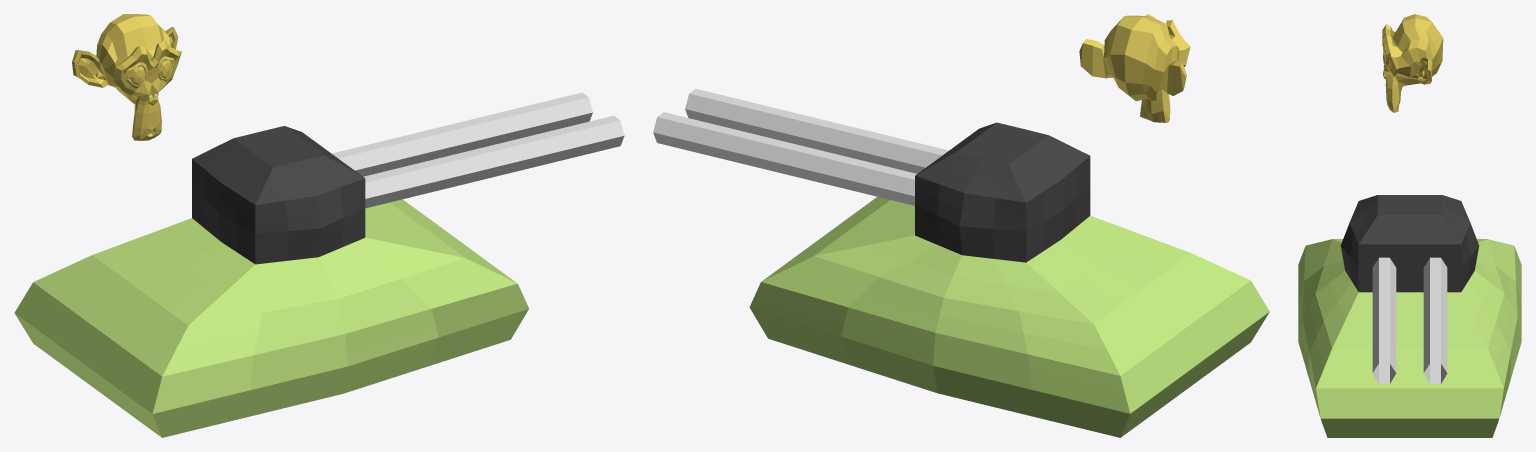
Rendered from Tank.gltf.
The picture shows the model from 3 angles, left to right: view 1: azimuth 30°, elevation 25°; view 2: azimuth 150°, elevation 25°; view 3: azimuth 270°, elevation 25°; orthographic projection. The views are drawn at different scales.
Parts seen in each view (by area): view 1: Tank, Suzanne; view 2: Tank, Suzanne; view 3: Tank, Suzanne.
Boxes of the visible parts, x1=… form: Tank: x1=14, y1=92, x2=624, y2=437; Suzanne: x1=72, y1=14, x2=181, y2=140; Tank: x1=653, y1=89, x2=1269, y2=437; Suzanne: x1=1079, y1=14, x2=1190, y2=122; Tank: x1=1298, y1=195, x2=1521, y2=437; Suzanne: x1=1382, y1=14, x2=1443, y2=112.
Bounding box in the file's own units: 9.42 × 6.29 × 4.35.
